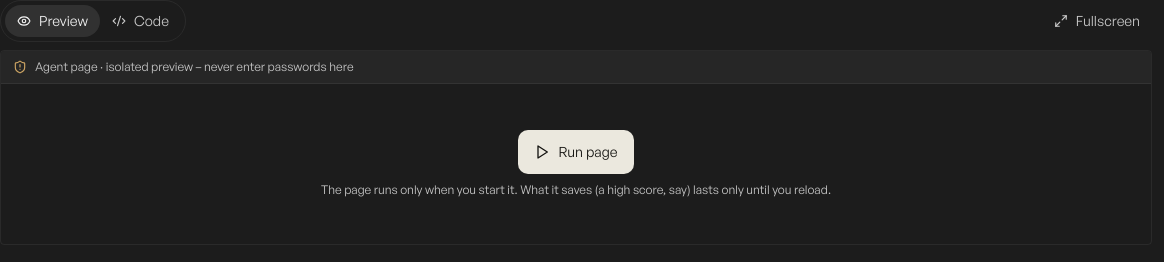
it: HtmlPreview — isolation label › is not shown on the code view (the source runs nothing)
What coordinates should you click on to do the following:
click the radio button labelled "Code"
I would click on:
 (140, 21)
Its box is [100,5,181,37].
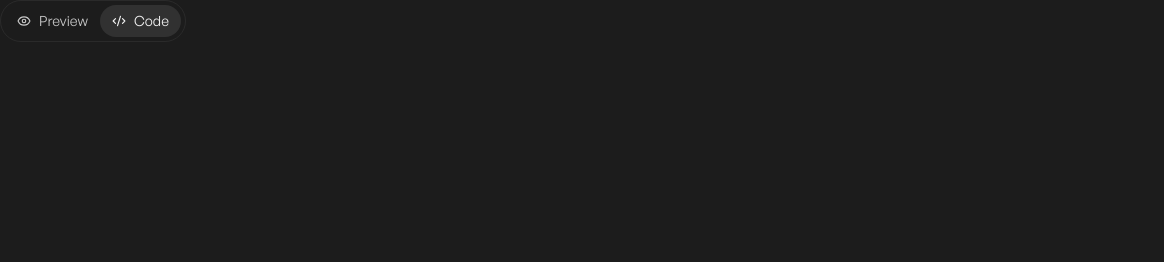
Expected: the text "Agent page · isolated preview – never enter passwords here" is gone
